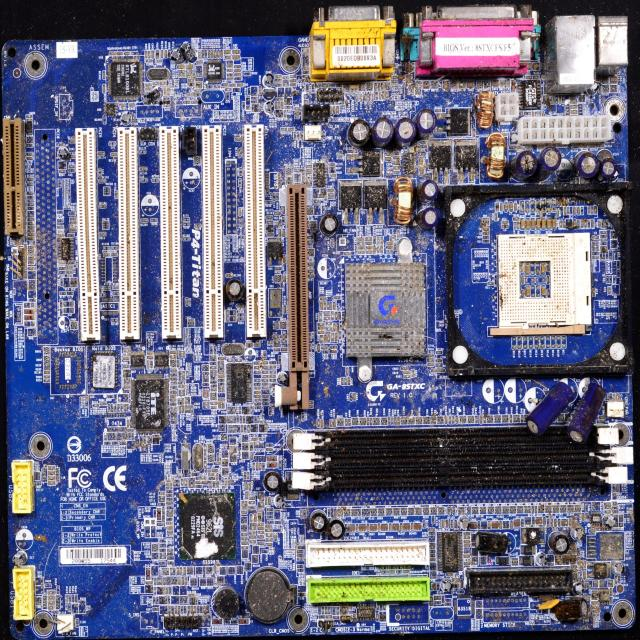Capacitor Jumper: (232, 54, 240, 60), (320, 345, 328, 350), (345, 366, 349, 376), (184, 477, 188, 487), (245, 482, 249, 492), (232, 49, 240, 54), (183, 567, 187, 577), (365, 241, 373, 246), (401, 366, 408, 371), (146, 581, 153, 586), (234, 64, 241, 69), (329, 345, 337, 349), (330, 350, 338, 354), (403, 370, 411, 374), (264, 528, 272, 532), (387, 570, 395, 574), (234, 69, 242, 73), (26, 152, 34, 156), (317, 343, 320, 353), (241, 500, 244, 510), (274, 532, 277, 542), (272, 335, 279, 339), (251, 438, 258, 442), (202, 480, 209, 484), (365, 246, 372, 250), (358, 246, 365, 250), (358, 250, 365, 254), (349, 392, 352, 401), (242, 510, 248, 514), (265, 524, 271, 528), (249, 536, 255, 540), (240, 542, 248, 545), (181, 578, 184, 586), (190, 606, 193, 614), (326, 614, 332, 618), (235, 73, 241, 77), (28, 177, 34, 181), (358, 237, 364, 241), (366, 250, 372, 254), (322, 350, 329, 353), (178, 470, 181, 477), (257, 527, 264, 530), (249, 540, 256, 543), (196, 480, 201, 484), (404, 566, 409, 570), (280, 335, 286, 338), (348, 377, 350, 386), (256, 462, 258, 471), (246, 490, 248, 499), (269, 497, 271, 506), (250, 523, 256, 526), (258, 541, 264, 544), (250, 500, 254, 504), (177, 568, 179, 576), (266, 544, 272, 546), (178, 578, 180, 584), (27, 157, 33, 159)
Connector: (413, 0, 532, 79), (308, 3, 397, 91), (159, 126, 187, 343), (75, 128, 102, 340), (240, 122, 266, 338), (116, 127, 142, 340), (201, 125, 225, 340), (516, 121, 609, 144)
IC: (179, 494, 237, 558), (131, 373, 170, 433), (108, 59, 143, 100), (86, 351, 120, 391), (228, 364, 254, 405), (436, 531, 462, 572), (204, 59, 225, 82), (57, 238, 76, 263), (357, 604, 375, 622), (130, 350, 144, 370), (155, 352, 169, 371), (103, 103, 118, 116)
Resistor Jumper: (59, 169, 70, 174), (64, 595, 69, 604), (158, 498, 166, 503), (177, 605, 181, 615), (340, 377, 344, 386), (238, 406, 242, 415), (376, 602, 380, 611), (365, 236, 372, 241), (404, 375, 412, 379), (218, 427, 226, 431), (381, 566, 389, 570), (402, 570, 410, 574), (336, 607, 340, 615), (68, 164, 76, 168), (238, 316, 244, 321), (273, 340, 280, 344), (474, 416, 478, 423), (158, 494, 165, 498), (27, 199, 34, 203), (357, 242, 364, 246), (344, 377, 347, 386), (448, 415, 451, 424), (348, 418, 351, 427), (262, 462, 265, 471), (203, 605, 206, 614), (175, 606, 178, 615), (168, 606, 171, 615), (325, 606, 328, 615), (44, 374, 50, 378), (44, 378, 50, 382), (388, 416, 391, 424), (394, 417, 397, 425), (367, 417, 370, 425), (391, 417, 394, 425), (218, 424, 226, 427), (252, 463, 255, 471), (259, 463, 262, 471), (159, 490, 165, 494), (166, 526, 172, 530), (258, 530, 264, 534), (241, 537, 247, 541), (266, 538, 272, 542), (242, 546, 248, 550), (388, 566, 396, 569), (382, 570, 388, 574), (383, 602, 386, 610), (193, 606, 196, 614), (328, 606, 331, 614), (322, 606, 325, 614), (376, 613, 379, 621), (244, 72, 250, 76), (28, 218, 34, 222), (28, 225, 34, 229), (28, 233, 34, 237), (237, 313, 244, 316), (273, 344, 280, 347), (397, 417, 400, 424), (259, 438, 266, 441), (396, 566, 403, 569), (330, 418, 332, 428), (274, 348, 280, 351), (166, 514, 172, 517), (250, 532, 256, 535), (163, 577, 165, 586), (188, 605, 190, 614), (431, 415, 433, 423), (434, 416, 436, 424), (345, 418, 347, 426), (27, 115, 32, 118), (452, 416, 454, 423), (370, 418, 372, 425), (28, 230, 35, 232), (266, 534, 272, 536), (28, 204, 34, 206), (28, 215, 34, 217)
Transistor: (380, 612, 386, 622)
